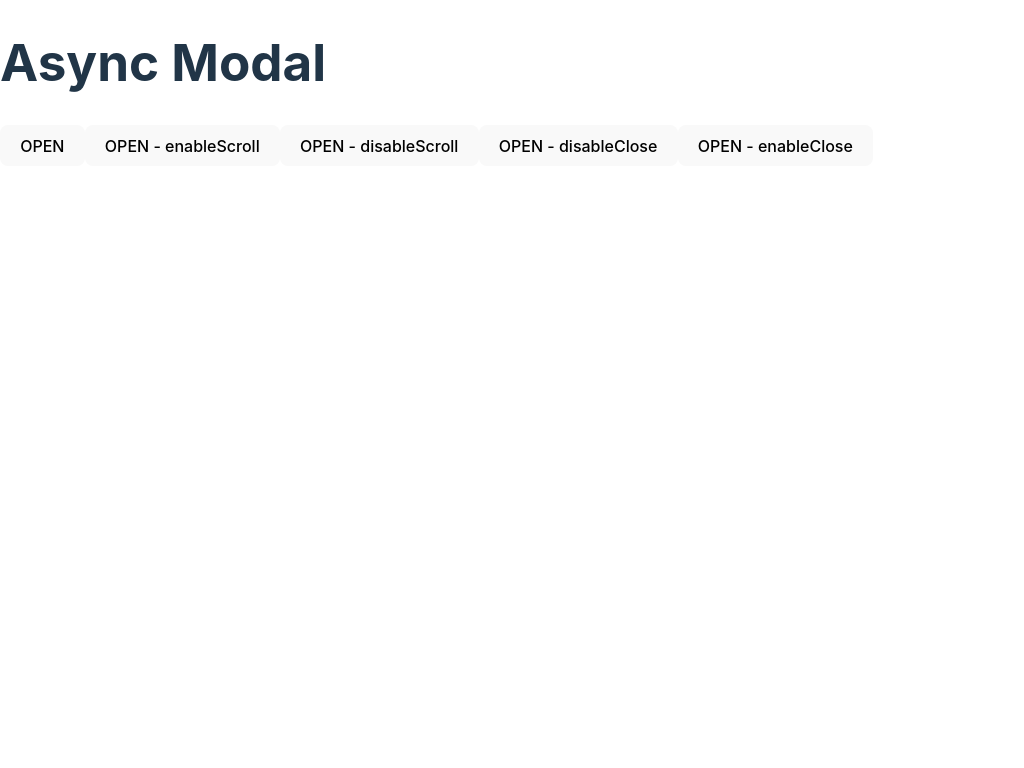
Test: Scroll test › disableBodyScrollWhenOpen(default) › Enable scroll when modal open with `disableScroll:false` option.
Click the button "OPEN - enableScroll": (182, 146) [85,125,280,166]
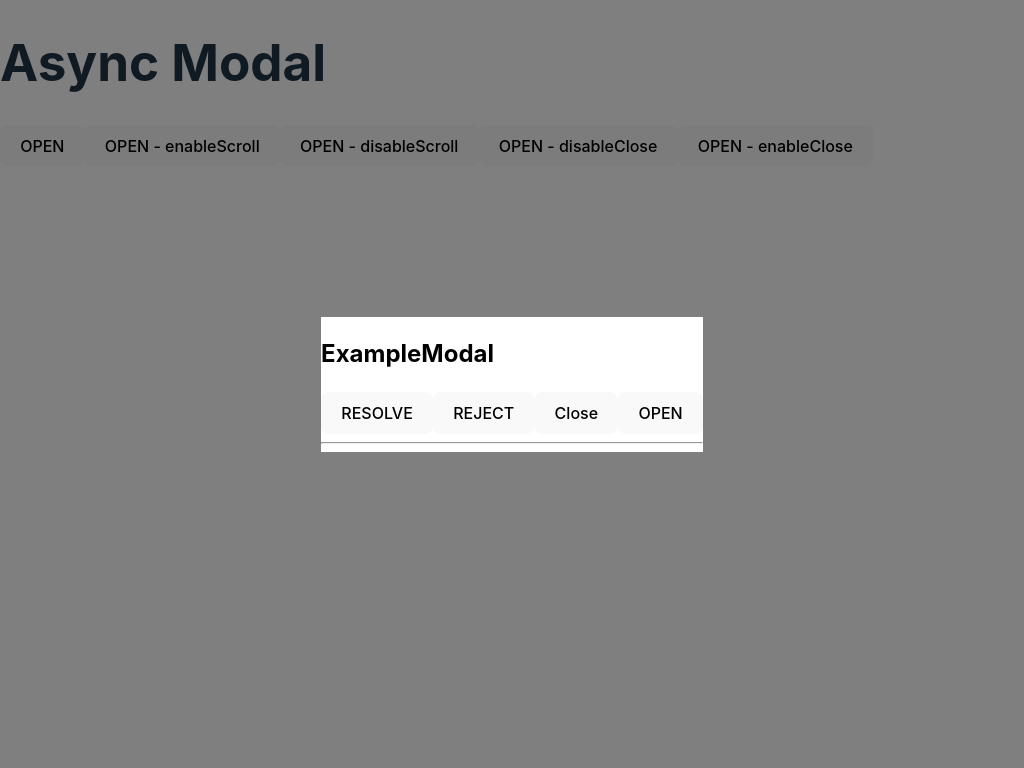
Check: the heading "ExampleModal" is shown, box [321,339,494,368]
